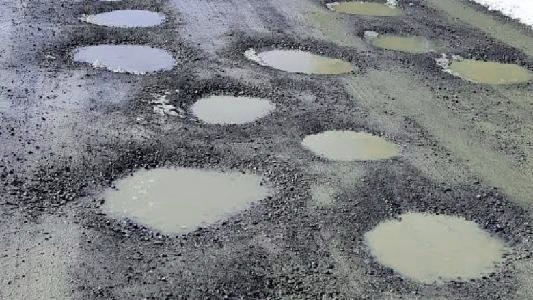pothole: (84, 151, 288, 241), (351, 200, 513, 285), (60, 32, 187, 75), (236, 33, 362, 75), (293, 122, 400, 162), (182, 83, 275, 124), (438, 52, 532, 86), (73, 3, 169, 26), (364, 28, 443, 53), (319, 0, 407, 18)
